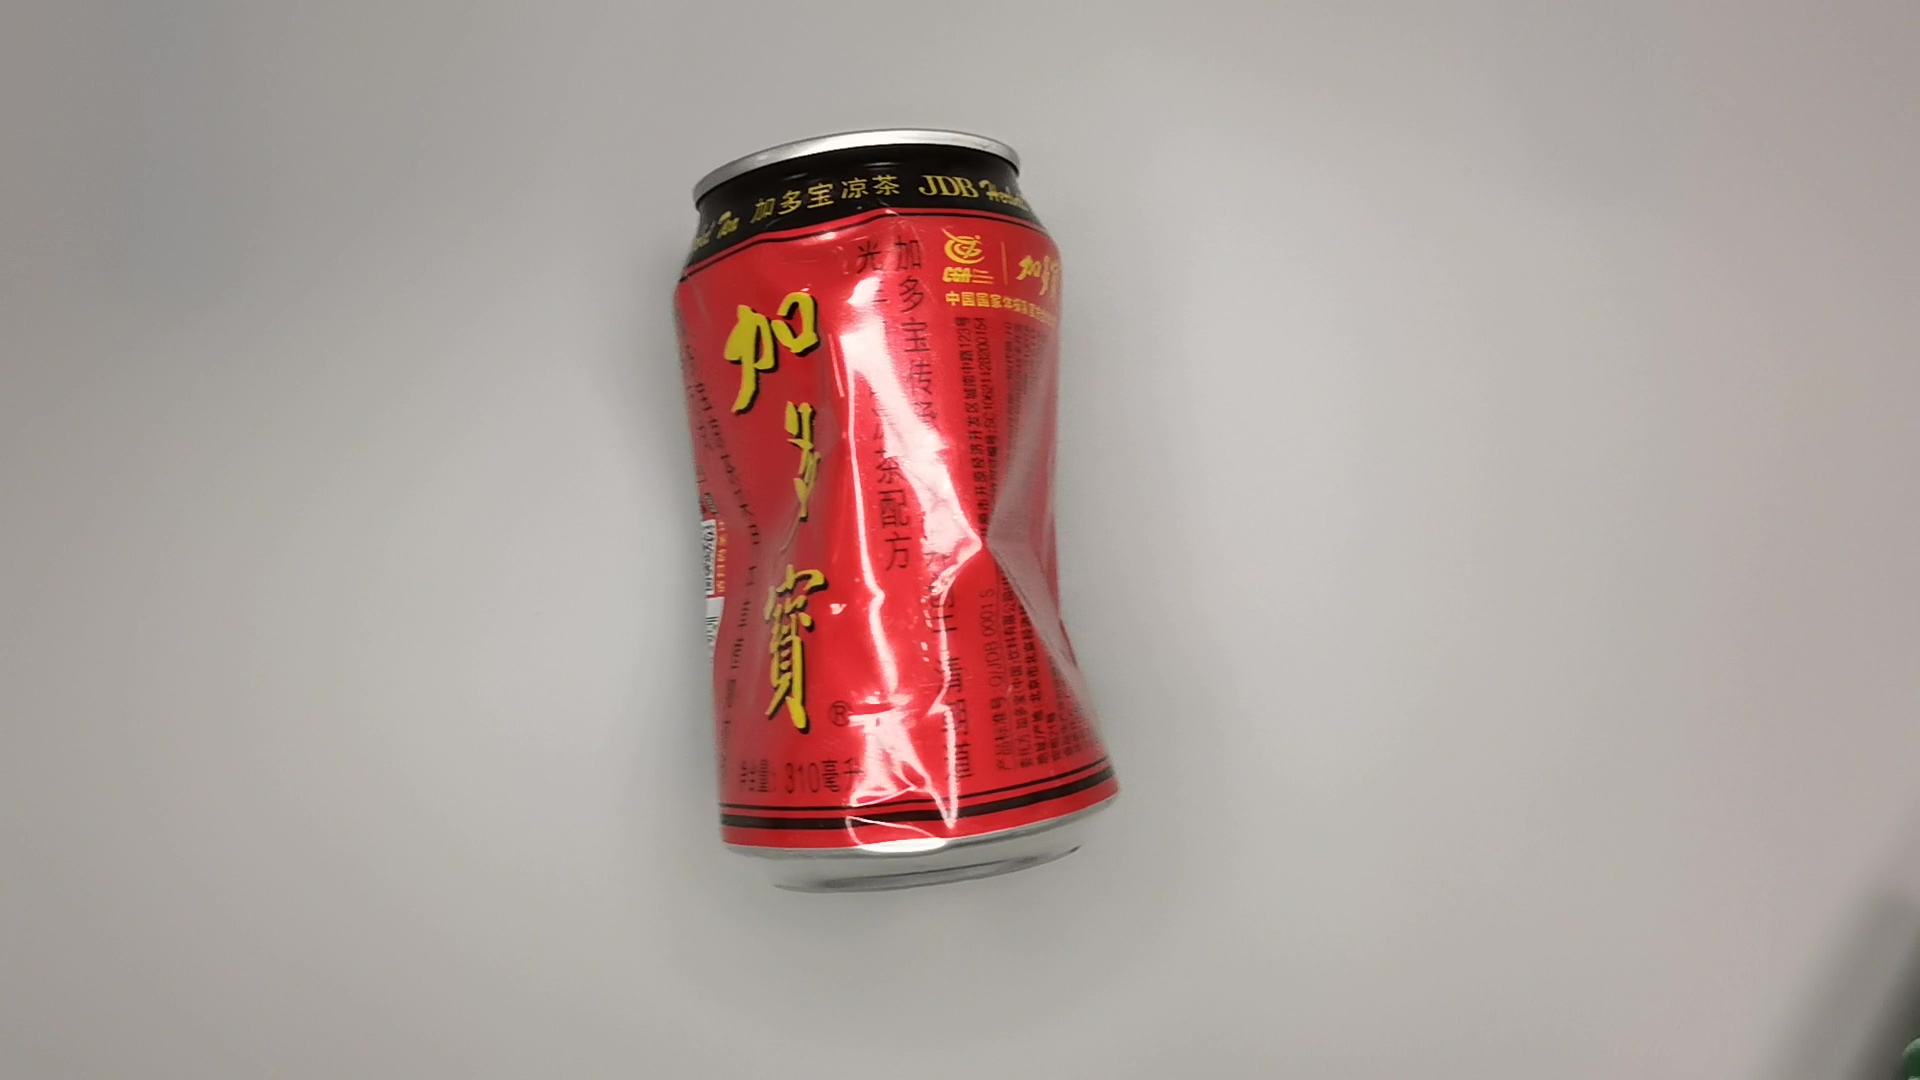can: (659, 120, 1134, 898)
